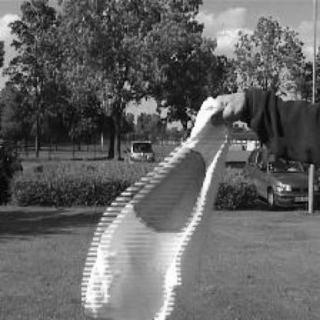other: (124, 142, 213, 235)
